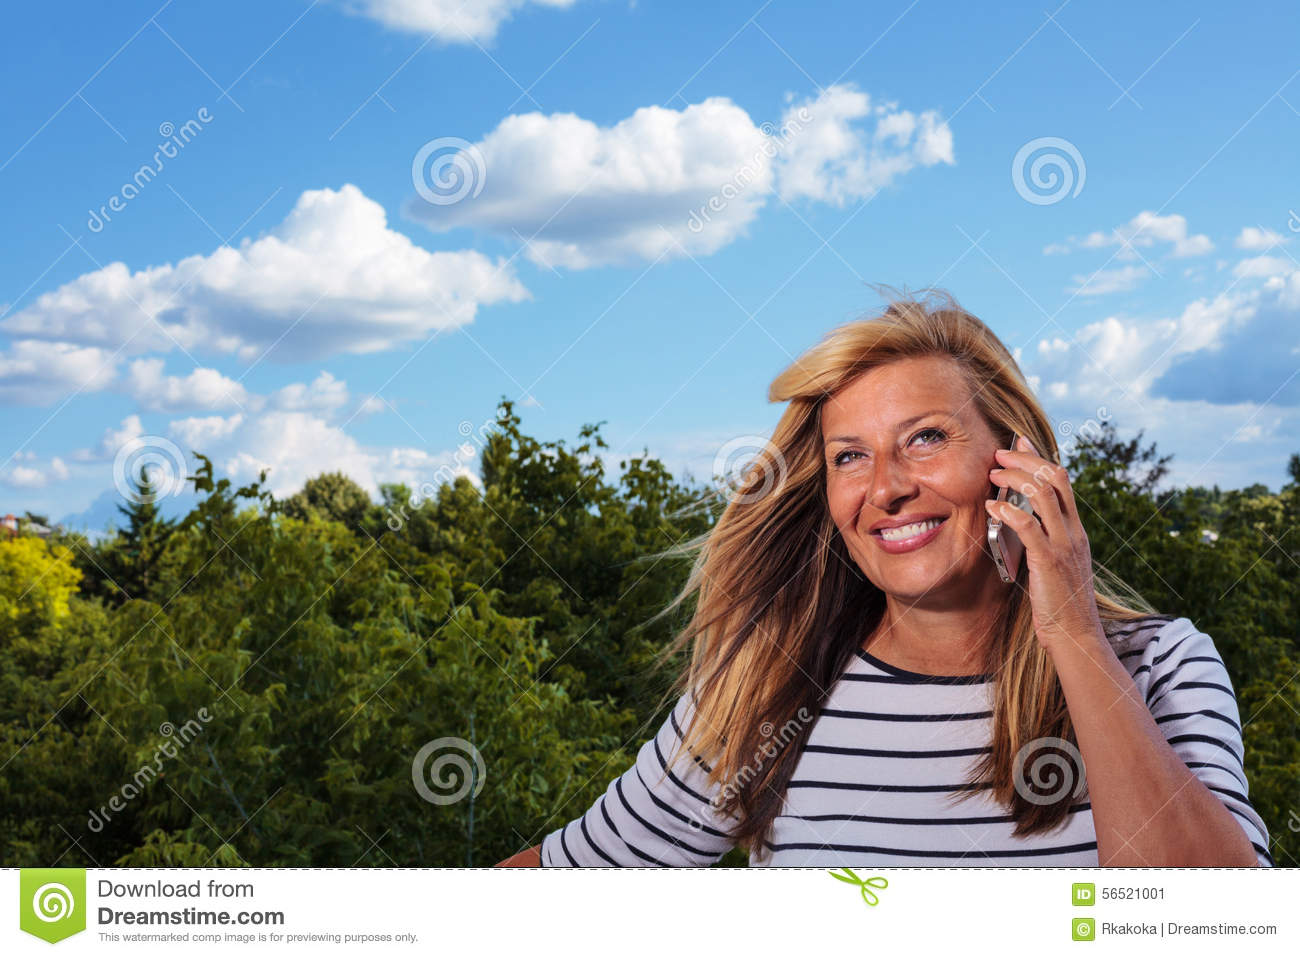phone: (987, 429, 1053, 584)
talk: (825, 410, 1097, 657)
